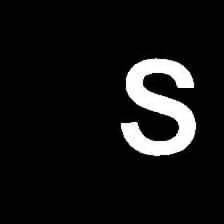LTR_S: (115, 52, 202, 158)
